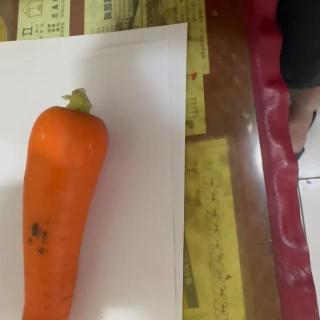carrot: (18, 87, 110, 320)
